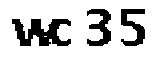3: (78, 4, 114, 49)
5: (117, 4, 151, 52)
c: (49, 13, 76, 49)
w: (9, 16, 52, 50)
